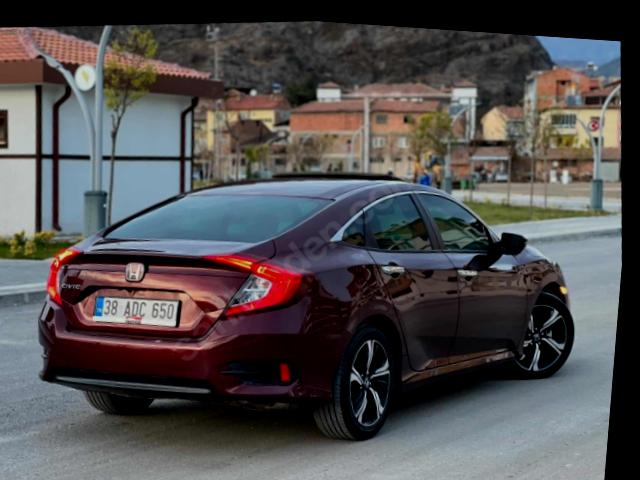plaka: (92, 296, 178, 327)
